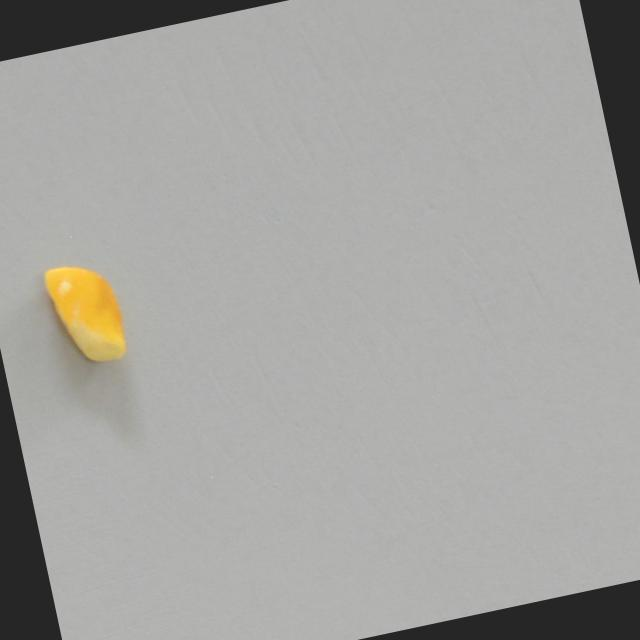dañado: (36, 247, 150, 379)
